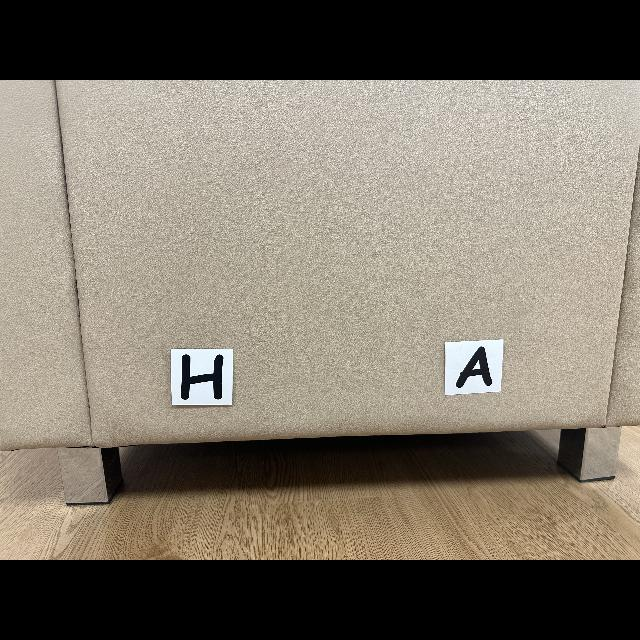A: (456, 346, 492, 388)
H: (181, 355, 224, 400)
